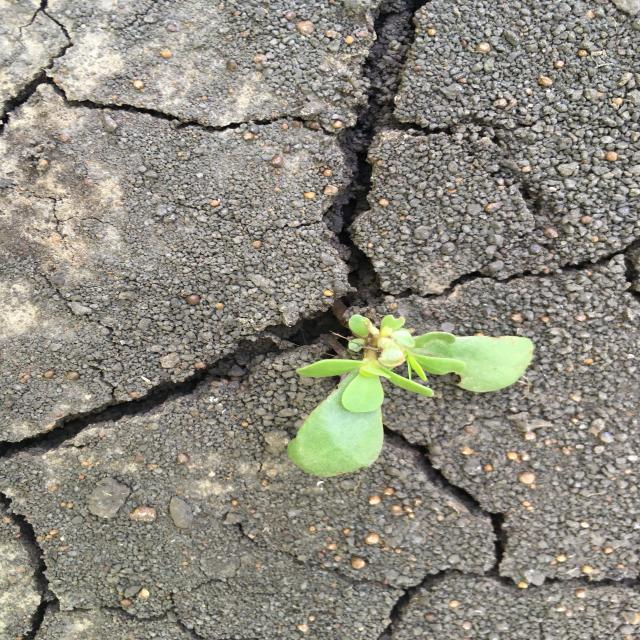Purslane: (285, 306, 541, 485)
